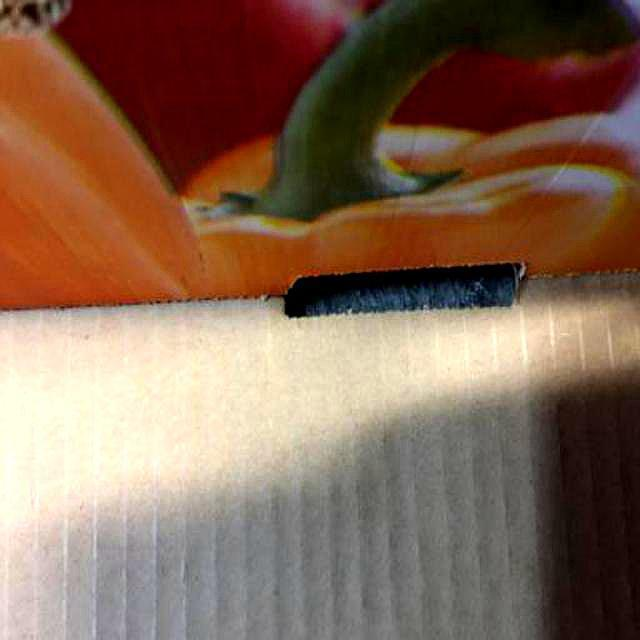Biodegradable: (1, 279, 640, 640)
